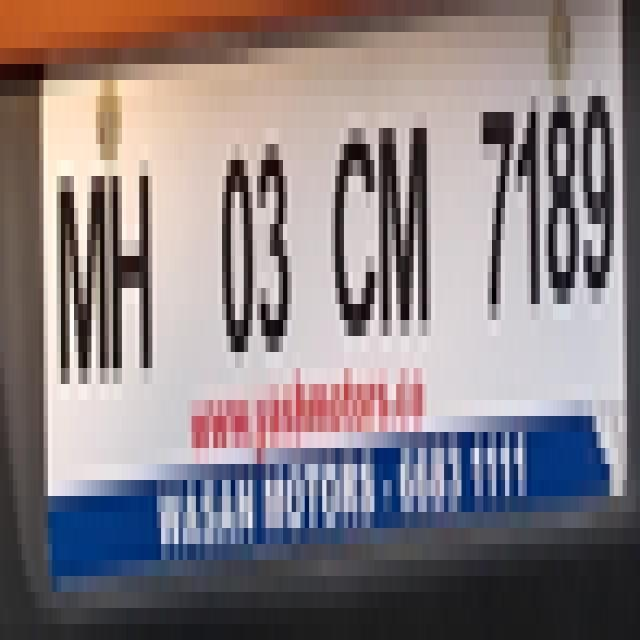0: (218, 140, 256, 366)
1: (521, 106, 544, 326)
3: (258, 148, 294, 352)
7: (472, 80, 518, 330)
8: (548, 94, 580, 310)
9: (584, 92, 618, 313)
C: (330, 113, 378, 339)
H: (110, 160, 160, 377)
M: (50, 148, 111, 406), (378, 110, 436, 334)
